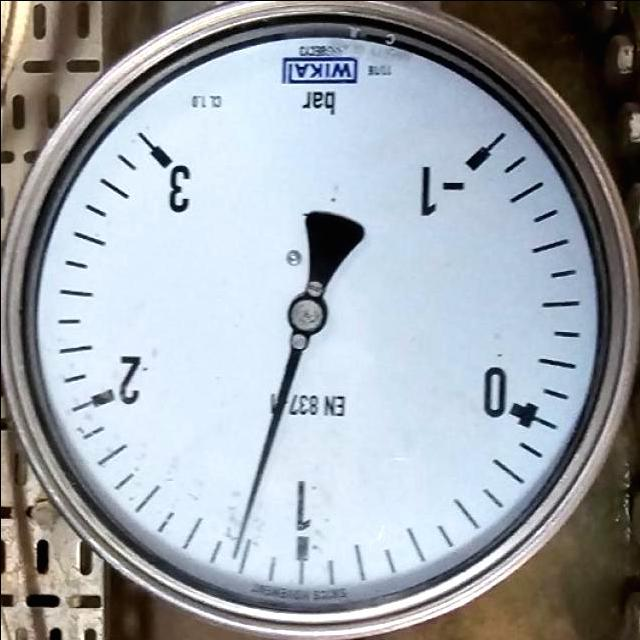Needle_Tip: (209, 499, 280, 566)
Needle_base: (278, 276, 340, 340)
max_value: (138, 158, 231, 217)
min_value: (408, 149, 483, 219)
